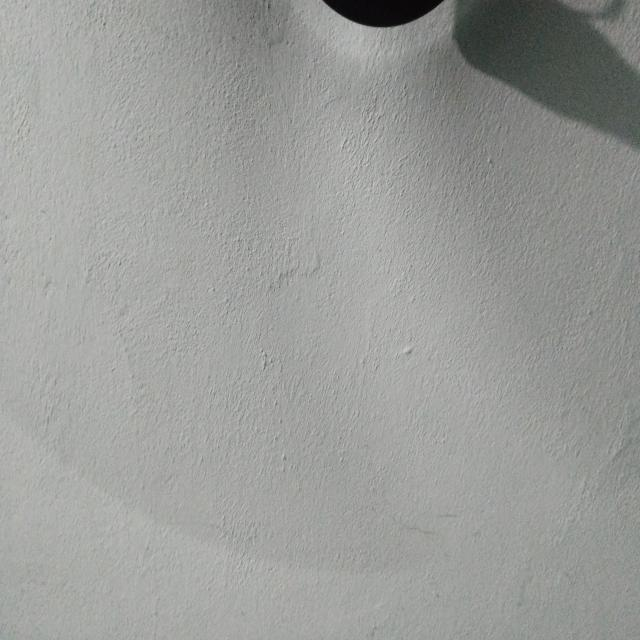fan_on: (0, 0, 640, 569)
